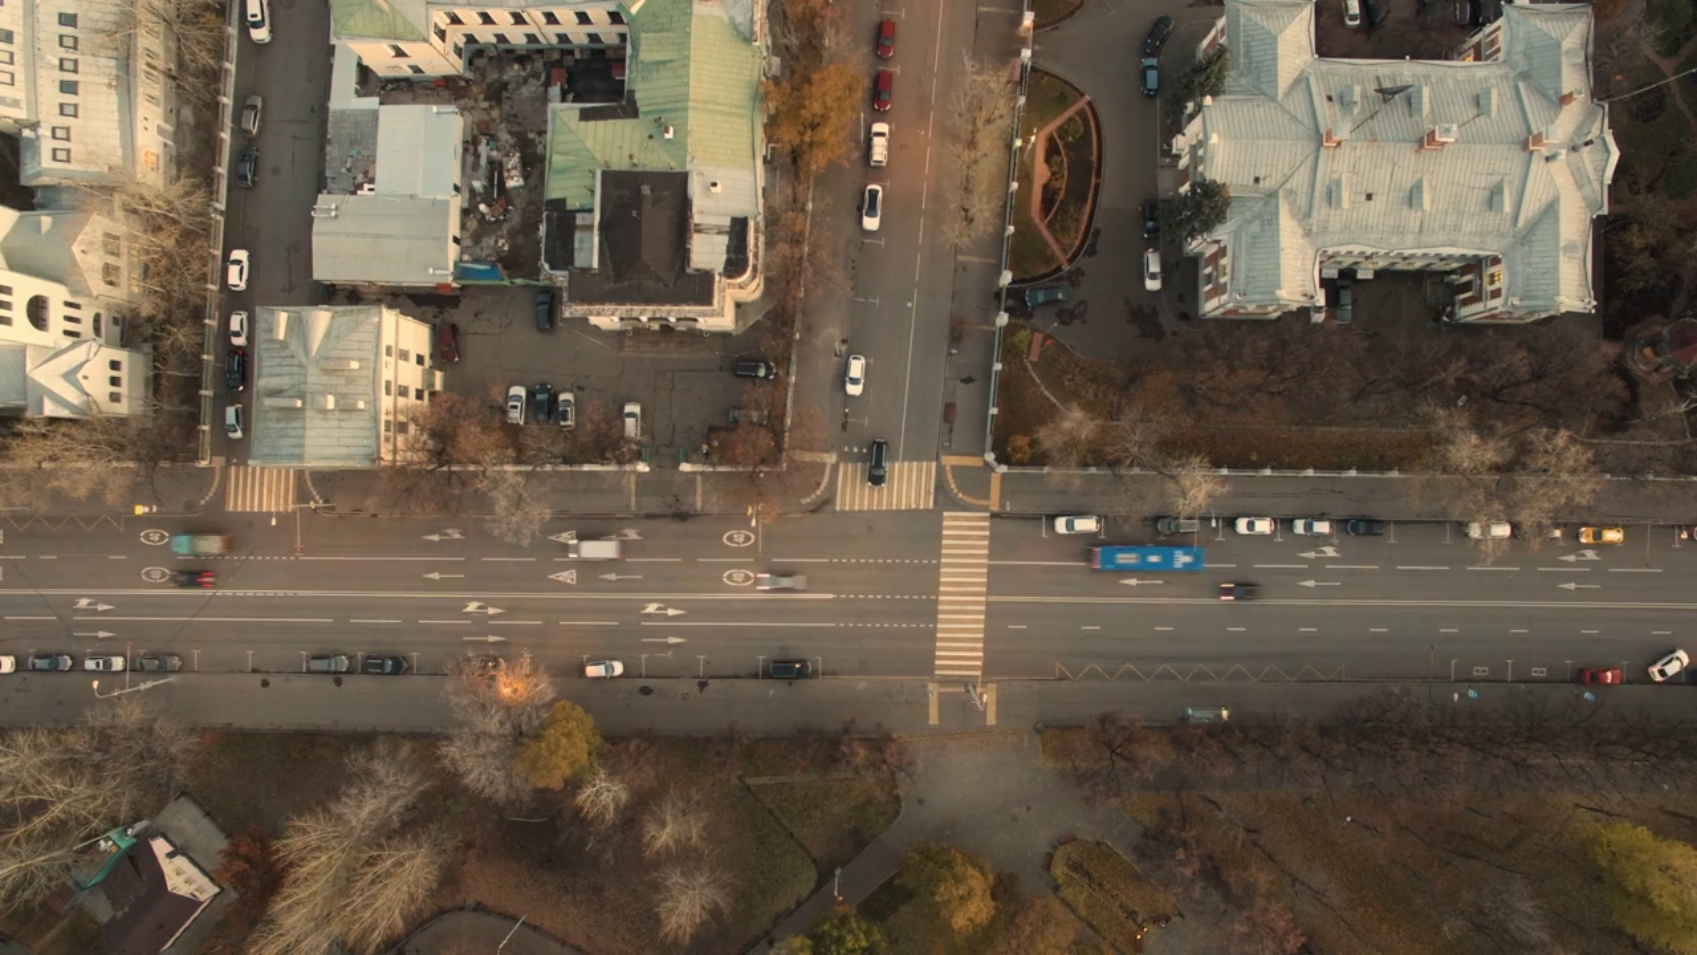car: (1087, 545, 1207, 573), (166, 535, 235, 559), (1643, 647, 1690, 682), (1136, 14, 1176, 55), (1023, 283, 1073, 310), (245, 1, 275, 45), (565, 539, 624, 560), (1135, 199, 1166, 239), (169, 567, 216, 592), (226, 246, 251, 294), (868, 436, 890, 489), (307, 653, 353, 677), (437, 319, 462, 366), (235, 145, 260, 190), (240, 92, 262, 140), (754, 570, 807, 590), (1578, 525, 1625, 547), (844, 356, 868, 398), (873, 19, 897, 61), (1233, 515, 1279, 538), (1052, 515, 1100, 536), (869, 122, 890, 170), (225, 351, 249, 392), (862, 184, 882, 234), (1466, 518, 1513, 539), (1577, 666, 1624, 687), (1142, 246, 1163, 293), (533, 292, 556, 333), (1139, 57, 1162, 98), (1155, 517, 1203, 536), (362, 654, 404, 676), (506, 382, 527, 427), (533, 380, 554, 424), (874, 69, 895, 113), (26, 653, 72, 673), (1514, 521, 1563, 540), (770, 660, 814, 681), (82, 655, 126, 675), (734, 361, 781, 380), (1218, 582, 1265, 601), (469, 654, 509, 675), (224, 403, 248, 438), (727, 405, 770, 424), (1346, 518, 1389, 538), (1335, 279, 1351, 330), (585, 656, 625, 677), (557, 389, 577, 431), (134, 655, 184, 670), (230, 311, 249, 347), (1342, 1, 1365, 31), (1293, 519, 1335, 535), (624, 402, 639, 442), (1314, 286, 1328, 325), (1, 656, 16, 675)
